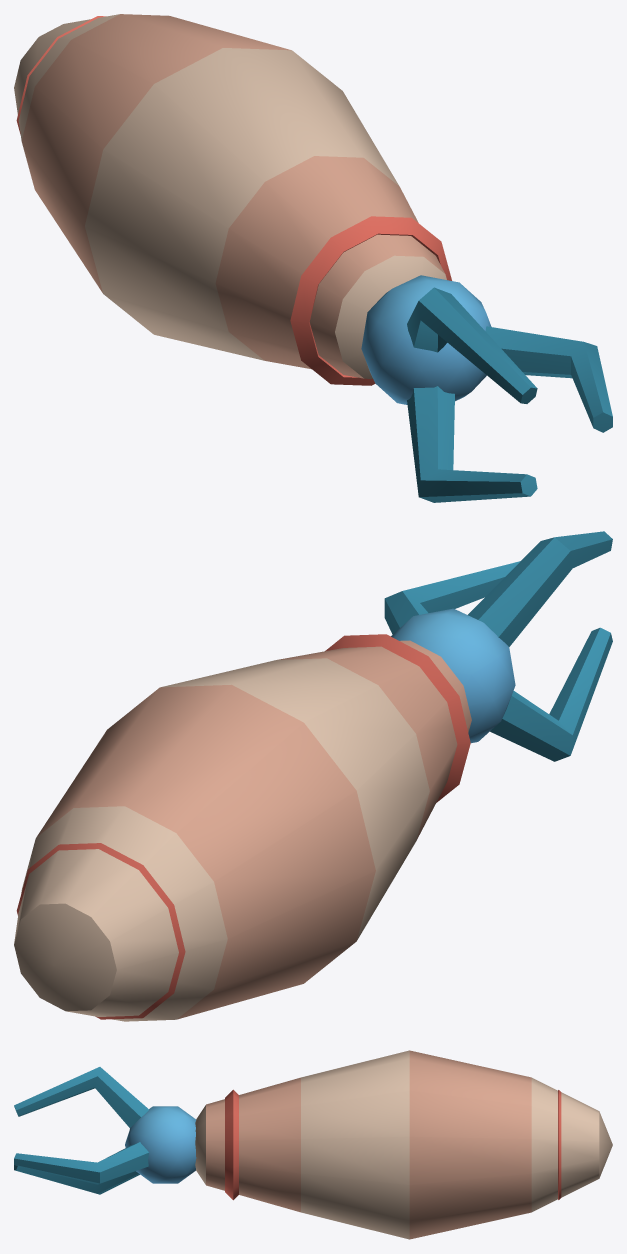
The model's file is w_n_kraken.glb.
The picture shows the model from 3 angles, top to bottom: view 1: azimuth 30°, elevation 25°; view 2: azimuth 150°, elevation 25°; view 3: azimuth 270°, elevation 25°; orthographic projection. The views are drawn at different scales.
Parts seen in each view (by area): view 1: body; view 2: body; view 3: body.
Part boxes in pixels (<box>): body: <box>14,14,612,502</box>; body: <box>14,531,612,1021</box>; body: <box>14,1050,612,1239</box>.
Size of the model in its own units: 0.196 by 0.196 by 0.6184.
